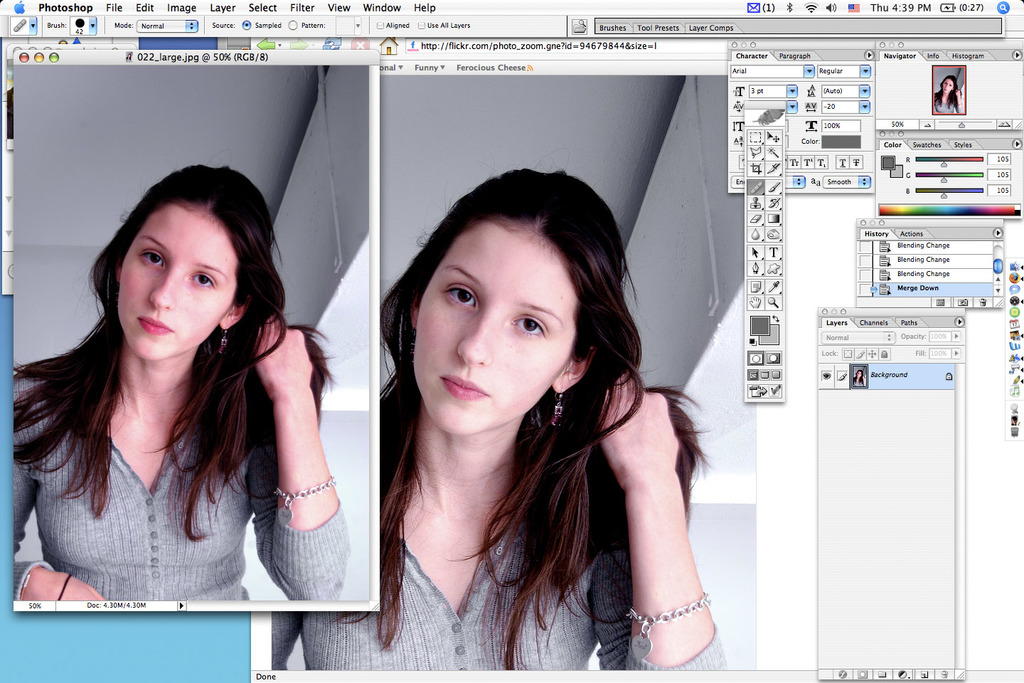Person: (934, 75, 963, 113)
